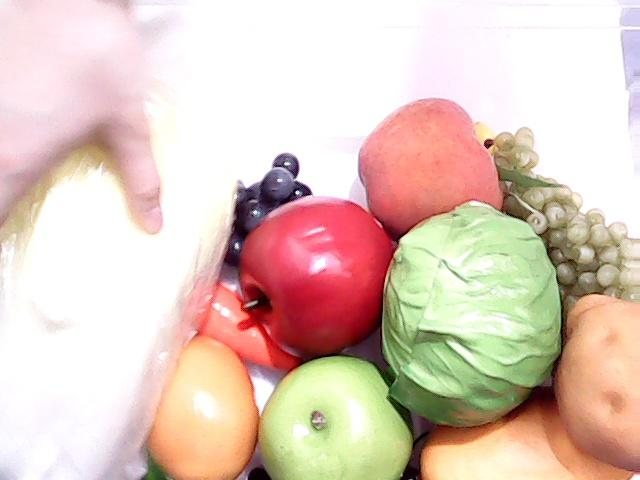apple: (236, 194, 396, 358), (255, 356, 413, 480)
cabbage: (380, 204, 564, 428)
carrot: (190, 278, 304, 374)
grape: (504, 164, 640, 290), (238, 146, 302, 204)
lemon: (143, 335, 265, 480)
mango: (415, 390, 633, 480)
napa cabbage: (1, 80, 236, 480)
peach: (357, 96, 501, 240)
potato: (556, 294, 640, 474)
